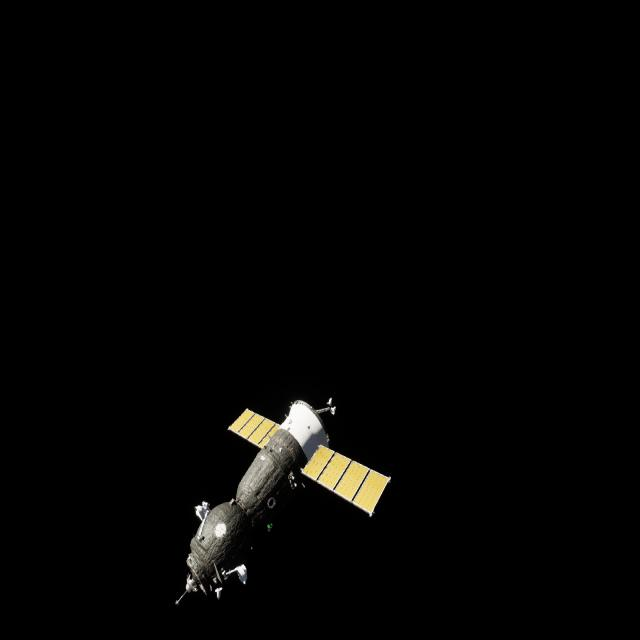Satellites revolving around earth: (173, 393, 393, 609)
